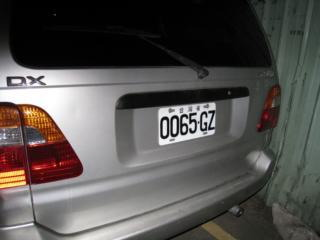plate: (154, 105, 219, 141)
